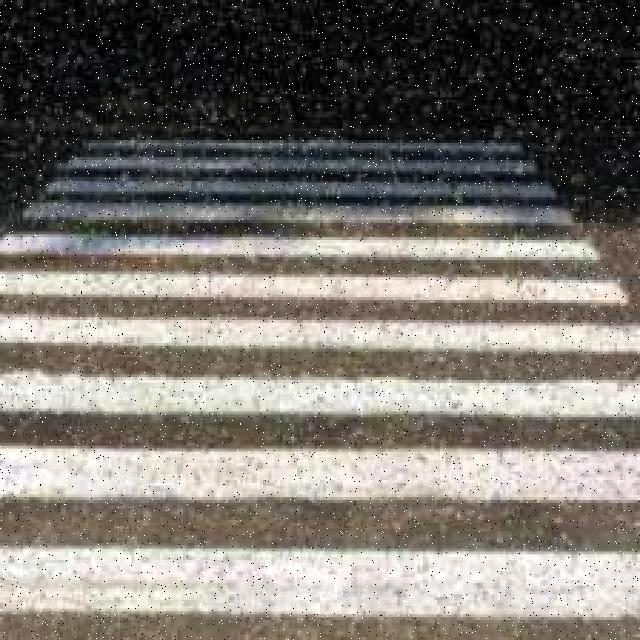crosswalk: (0, 133, 639, 639)
